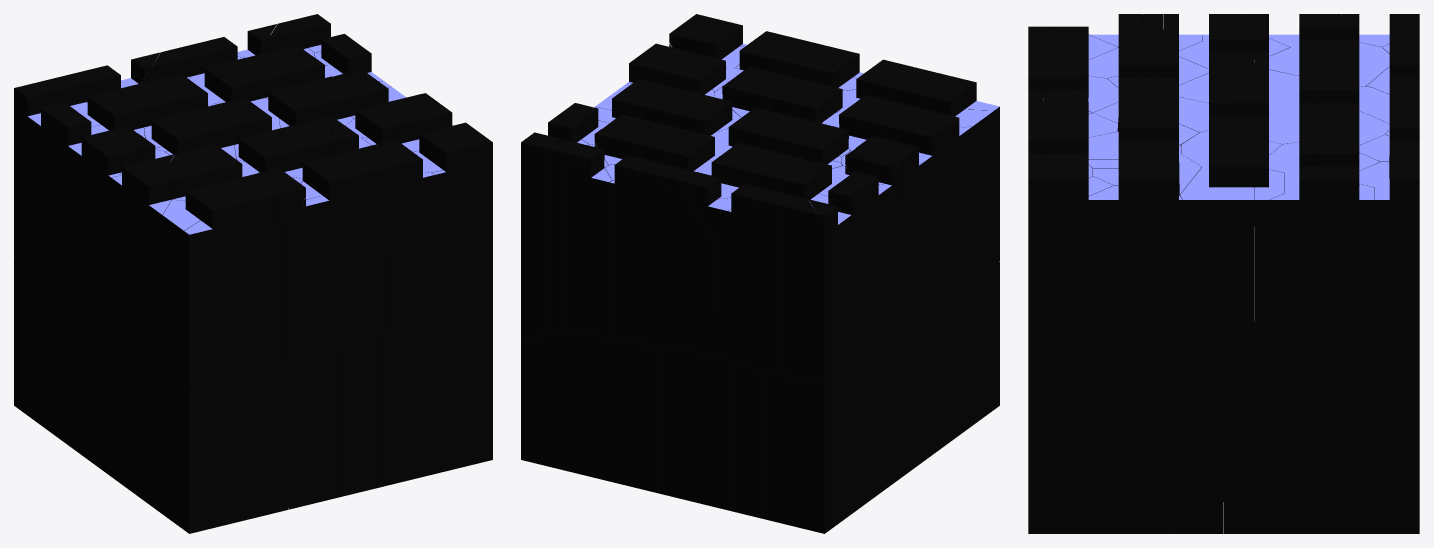
File: BreakableBlockSplitedOriginCenter (1).fbx
3 renders of one model, left to right at view 1: azimuth 30°, elevation 25°; view 2: azimuth 150°, elevation 25°; view 3: azimuth 270°, elevation 25°, orthographic. The views are drawn at different scales.
Parts seen in each view (by area): view 1: Cube.006_cell.180, Cube.006_cell.110, Cube.006_cell.145, Cube.006_cell.164, Cube.006_cell.149, Cube.006_cell.168, Cube.006_cell.147, Cube.006_cell.194, Cube.006_cell.115, Cube.006_cell.118, Cube.006_cell.152, Cube.006_cell.130 (+49 smaller); view 2: Cube.006_cell.139, Cube.006_cell.206, Cube.006_cell.198, Cube.006_cell.173, Cube.006_cell.158, Cube.006_cell.119, Cube.006_cell.147, Cube.006_cell.113, Cube.006_cell.194, Cube.006_cell.164, Cube.006_cell.186, Cube.006_cell.118 (+48 smaller); view 3: Cube.006_cell.182, Cube.006_cell.192, Cube.006_cell.200, Cube.006_cell.122, Cube.006_cell.191, Cube.006_cell.133, Cube.006_cell.166, Cube.006_cell.183, Cube.006_cell.145, Cube.006_cell.139, Cube.006_cell.185, Cube.006_cell.151 (+52 smaller).
Part boxes in pixels (bbox=[...]): Cube.006_cell.180: bbox=[169, 204, 282, 389]; Cube.006_cell.110: bbox=[282, 170, 389, 361]; Cube.006_cell.145: bbox=[390, 143, 492, 329]; Cube.006_cell.164: bbox=[135, 346, 221, 533]; Cube.006_cell.149: bbox=[376, 325, 445, 488]; Cube.006_cell.168: bbox=[221, 361, 288, 525]; Cube.006_cell.147: bbox=[41, 110, 94, 314]; Cube.006_cell.194: bbox=[39, 275, 94, 464]; Cube.006_cell.115: bbox=[288, 348, 340, 509]; Cube.006_cell.118: bbox=[95, 315, 135, 494]; Cube.006_cell.152: bbox=[128, 165, 169, 364]; Cube.006_cell.130: bbox=[340, 337, 375, 496]; Cube.006_cell.139: bbox=[521, 331, 657, 492]; Cube.006_cell.206: bbox=[762, 366, 849, 533]; Cube.006_cell.198: bbox=[778, 197, 847, 383]; Cube.006_cell.173: bbox=[657, 347, 730, 510]; Cube.006_cell.158: bbox=[715, 184, 787, 372]; Cube.006_cell.119: bbox=[614, 161, 668, 347]; Cube.006_cell.147: bbox=[842, 173, 905, 363]; Cube.006_cell.113: bbox=[667, 158, 759, 354]; Cube.006_cell.194: bbox=[849, 325, 905, 514]; Cube.006_cell.164: bbox=[945, 261, 999, 444]; Cube.006_cell.186: bbox=[568, 159, 614, 336]; Cube.006_cell.118: bbox=[905, 297, 945, 474]; Cube.006_cell.182: bbox=[1224, 335, 1389, 533]; Cube.006_cell.192: bbox=[1028, 366, 1168, 533]; Cube.006_cell.200: bbox=[1058, 168, 1182, 366]; Cube.006_cell.122: bbox=[1180, 149, 1253, 366]; Cube.006_cell.191: bbox=[1269, 189, 1329, 376]; Cube.006_cell.133: bbox=[1329, 166, 1374, 389]; Cube.006_cell.166: bbox=[1168, 363, 1223, 533]; Cube.006_cell.183: bbox=[1374, 187, 1404, 396]; Cube.006_cell.145: bbox=[1028, 164, 1092, 371]; Cube.006_cell.139: bbox=[1374, 371, 1419, 533]; Cube.006_cell.185: bbox=[1404, 163, 1419, 398]; Cube.006_cell.151: bbox=[1254, 169, 1283, 367].
Bounding box in the file's own units: 200 × 200 × 200.
